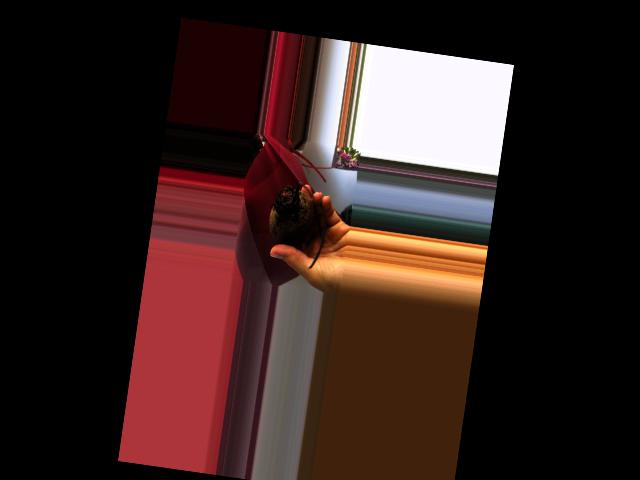beet: (263, 177, 332, 270)
